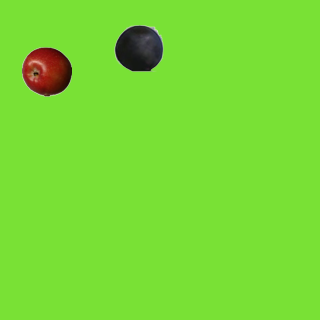Apple Braeburn: (21, 46, 71, 96)
Grape Blue: (113, 22, 163, 72)
